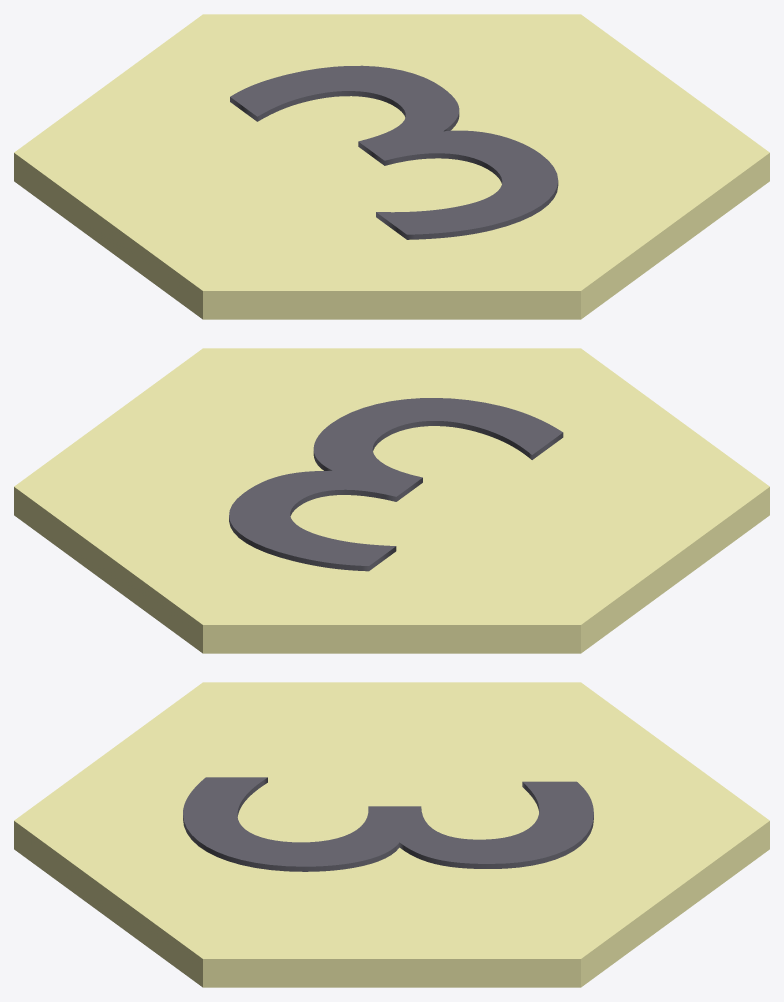
File: station_3.dae
The picture shows the model from 3 angles, top to bottom: view 1: azimuth 30°, elevation 25°; view 2: azimuth 150°, elevation 25°; view 3: azimuth 270°, elevation 25°; orthographic projection.
Visible parts, largest first — view 1: Text_008; view 2: Text_008; view 3: Text_008.
Part boxes in pixels (x1,y1,x2,y2): Text_008: (14, 14, 769, 319); Text_008: (14, 348, 769, 653); Text_008: (14, 682, 769, 987).
Bounding box in the file's own units: 0.7359 × 0.8498 × 0.0419.
